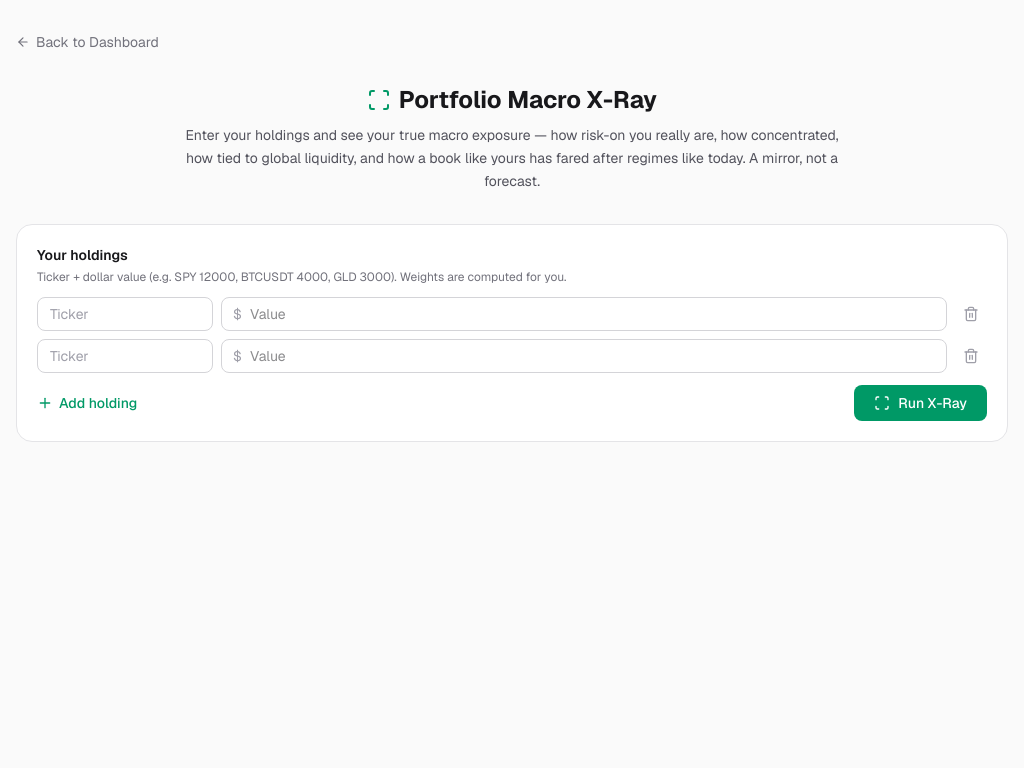
/portfolio page › runs the X-ray and renders the outcome + reads
Type "SPY" into the 1st field with placeholder "Ticker".
click(125, 314); type("SPY")  # box [37,297,213,331]
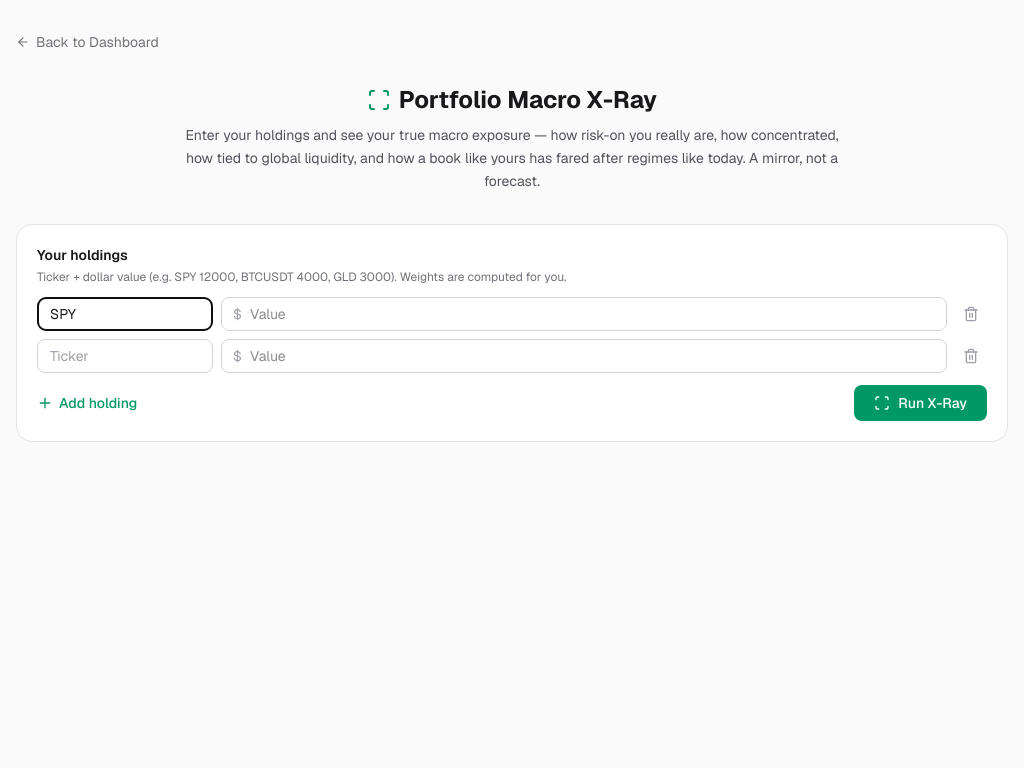
Type "1000" into the 1st field with placeholder "Value".
click(584, 314); type("1000")  # box [221,297,947,331]
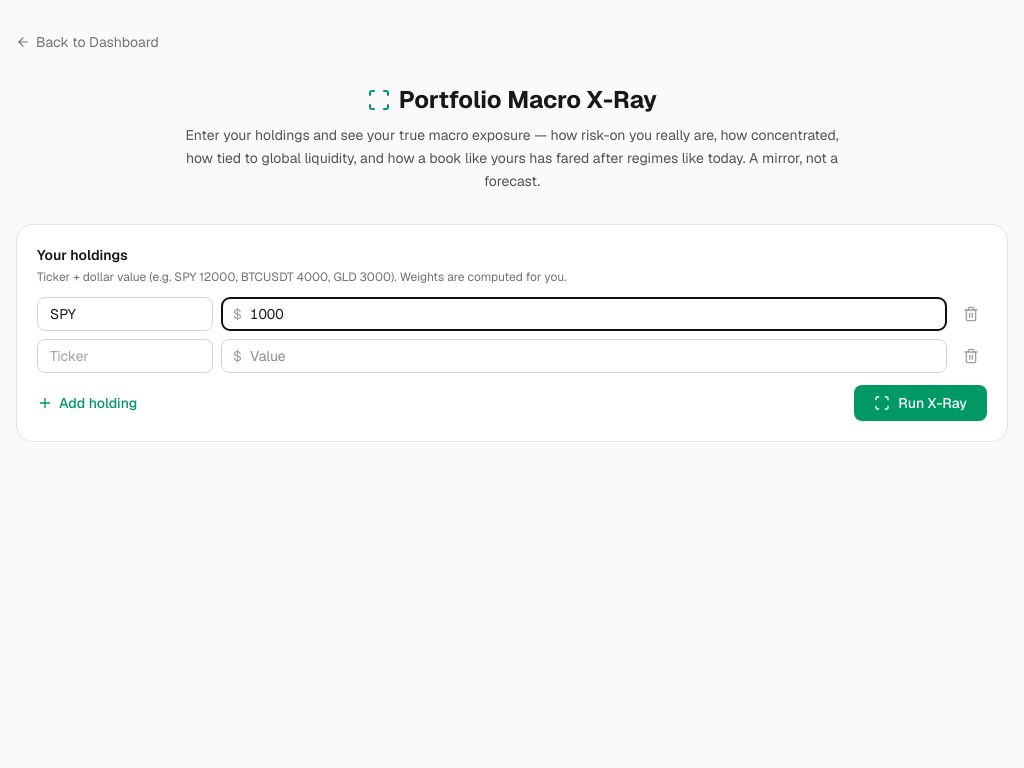
Click the button "Run X-Ray".
click(921, 403)  # box [854,385,987,421]
(page scrolled)
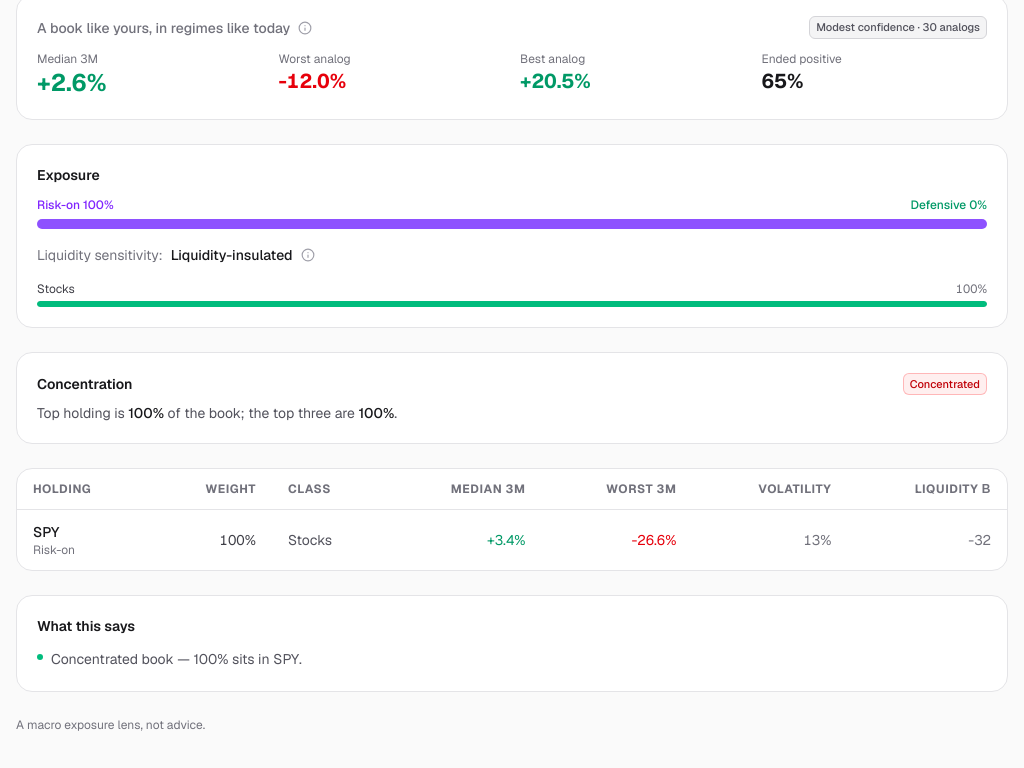
Check: the heading "A book like yours, in regimes like today" is shown, box [37,18,290,38]
Check: the text "+2.6%" is shown, box [37,67,107,98]
Check: the list item "Concentrated book — 100% sits in SPY." is shown, box [37,650,302,668]
